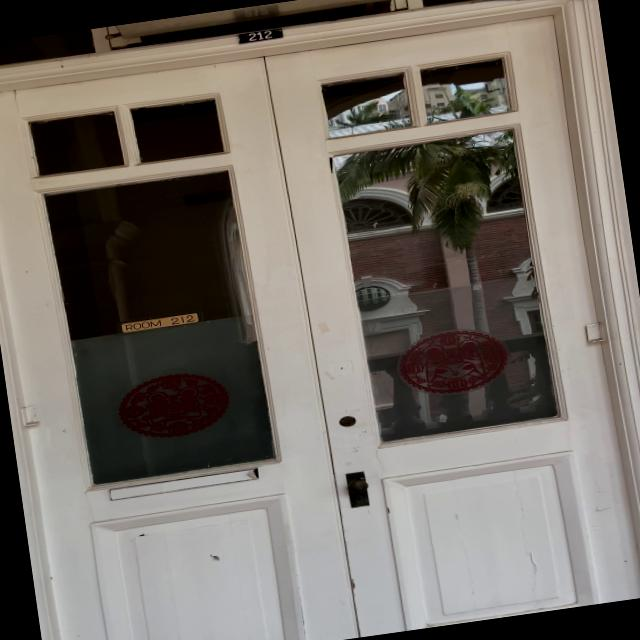room212: (234, 22, 290, 48)
room212Window: (108, 306, 212, 340)
